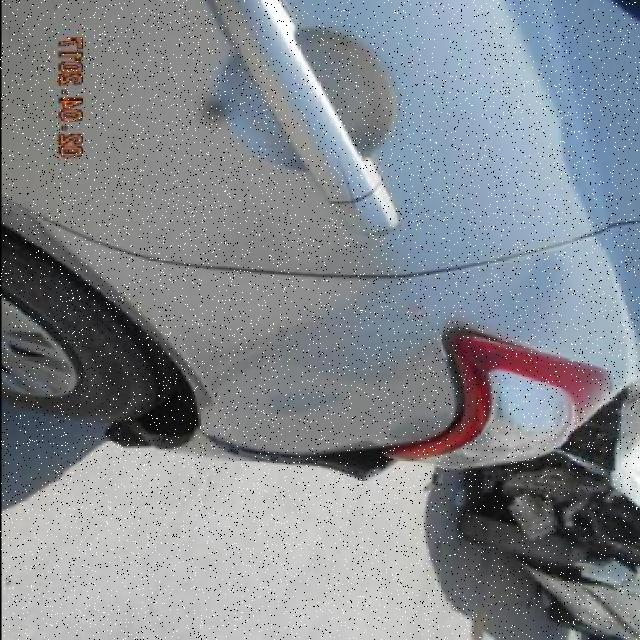damage: (194, 431, 396, 478)
